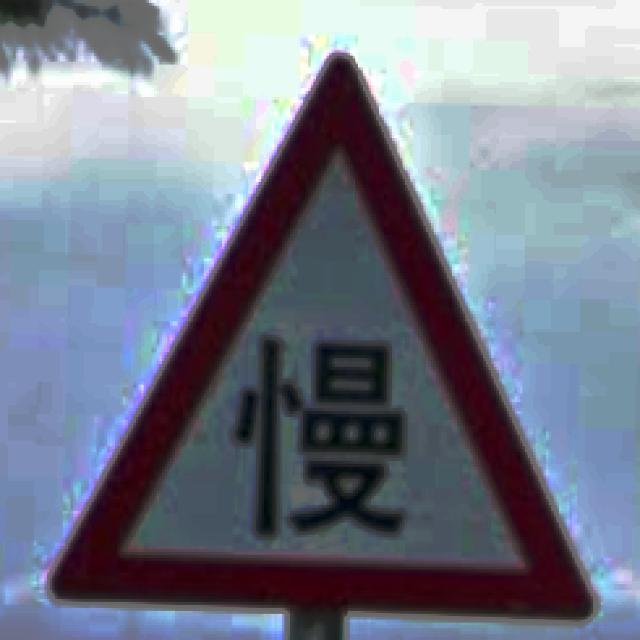slow: (44, 50, 596, 622)
